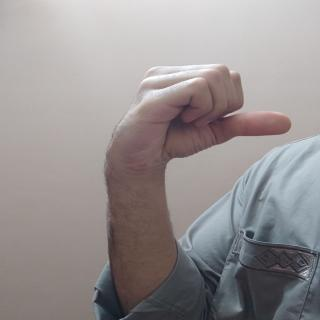WAW: (92, 55, 299, 176)
